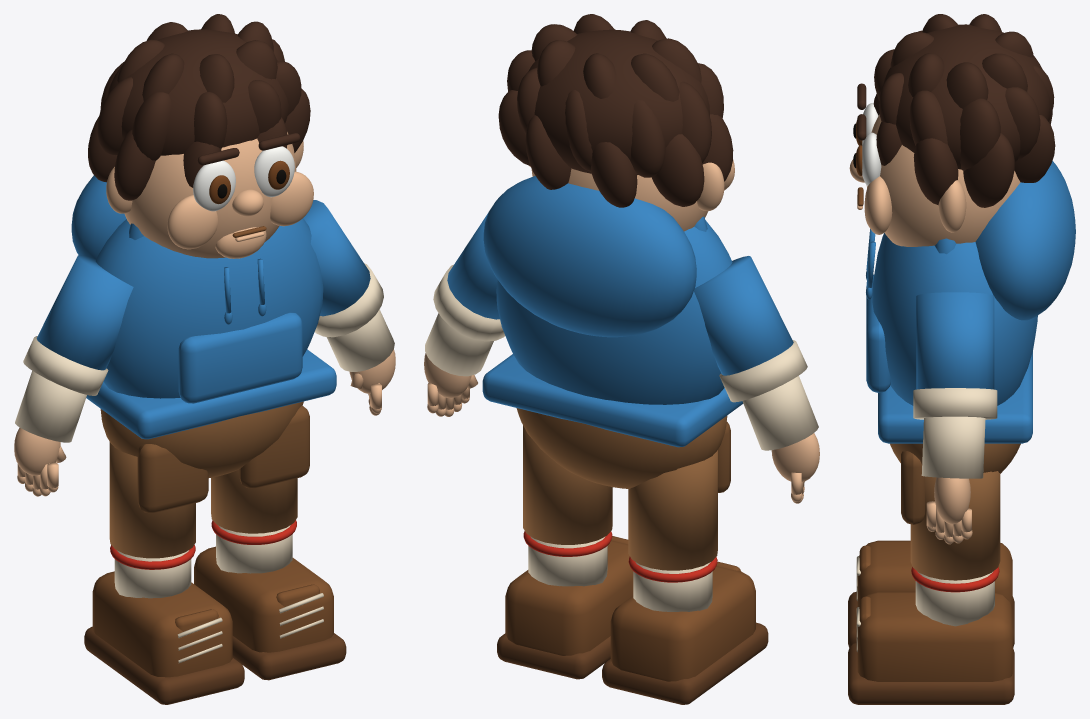
Rendered from firipu_blockout_v02.glb.
3 views of the same model, side by side, from view 1: azimuth 30°, elevation 25°; view 2: azimuth 150°, elevation 25°; view 3: azimuth 270°, elevation 25° (orthographic). The views are drawn at different scales.
Visible parts, largest first — view 1: Torso_Poleron, Bota_L, Bota_R, Casquete_Cabello, Bolsillo_Canguro, Pretina_Poleron, BrazoSuperior_L, Cabeza, Caderas, Pierna_L, Pierna_R, BrazoSuperior_R (+34 smaller); view 2: Capucha, Torso_Poleron, Bota_L, Casquete_Cabello, Pretina_Poleron, Pierna_L, Bota_R, Caderas, BrazoSuperior_L, Pierna_R, Suela_L, AntebrazoCrema_L (+30 smaller); view 3: Torso_Poleron, Bota_R, Capucha, BrazoSuperior_R, Casquete_Cabello, Pierna_R, Cabeza, Suela_R, Pretina_Poleron, AntebrazoCrema_R, Bota_L, Calcetin_R (+25 smaller).
Part boxes in pixels (x1,y1,x2,y2): Torso_Poleron: (95,218,323,398); Bota_L: (92,571,232,677); Bota_R: (194,546,333,652); Casquete_Cabello: (106,29,288,155); Bolsillo_Canguro: (178,312,302,403); Pretina_Poleron: (86,349,336,439); BrazoSuperior_L: (36,255,133,370); Cabeza: (124,132,296,258); Caderas: (100,401,303,477); Pierna_L: (109,442,195,558); Pierna_R: (211,469,297,533); BrazoSuperior_R: (303,200,370,316); Capucha: (483,176,696,337); Torso_Poleron: (496,220,732,404); Bota_L: (610,566,755,681); Casquete_Cabello: (529,29,709,174); Pretina_Poleron: (482,354,743,447); Pierna_L: (628,450,717,570); Bota_R: (505,540,633,655); Caderas: (516,408,727,488); BrazoSuperior_L: (694,256,793,375); Pierna_R: (523,425,612,544); Suela_L: (602,622,768,704); AntebrazoCrema_L: (742,375,818,450); Torso_Poleron: (872,233,1037,405); Bota_R: (857,591,1012,681); Capucha: (975,161,1075,320); BrazoSuperior_R: (916,292,994,389); Casquete_Cabello: (883,24,1050,169); Pierna_R: (910,471,1000,580); Cabeza: (866,114,1020,246); Suela_R: (848,642,1014,704); Pretina_Poleron: (878,351,1032,443); AntebrazoCrema_R: (921,416,985,478); Bota_L: (857,540,1012,610); Calcetin_R: (915,571,994,626).
Bounding box in the file's own units: 0.6939 × 1.06 × 0.3514.
